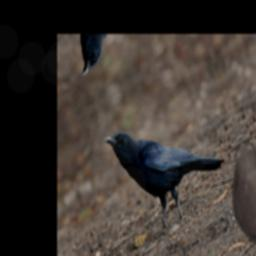Crow: (102, 78, 234, 252)
